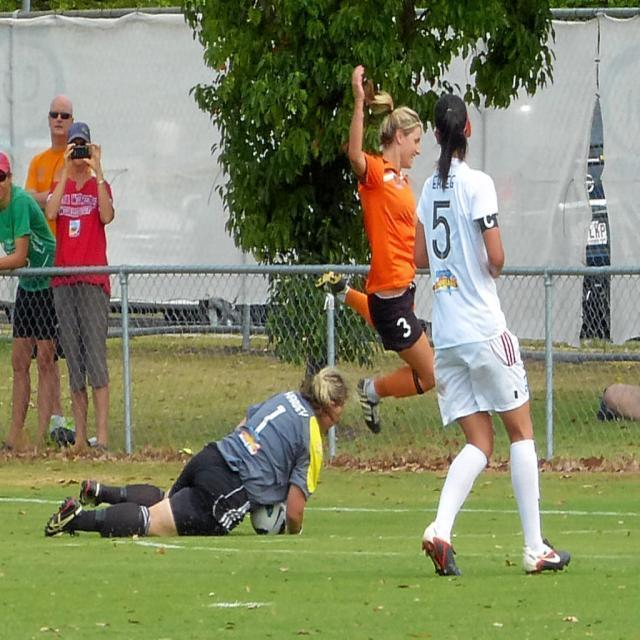ball: (246, 503, 290, 539)
